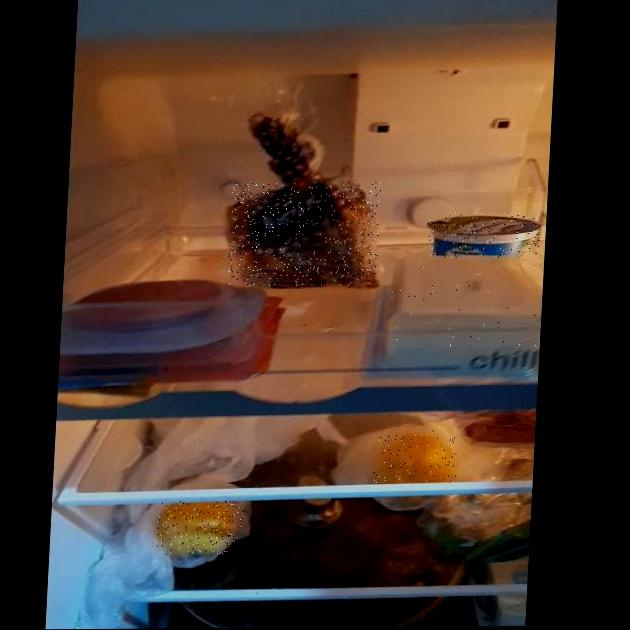bread: (227, 182, 381, 286)
cheese: (379, 264, 542, 350)
lemon: (373, 428, 460, 484), (155, 501, 244, 555)
yoghurt: (427, 212, 541, 258)
